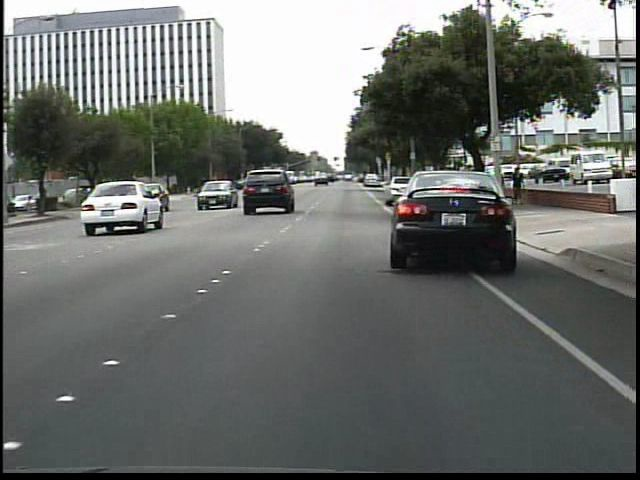person: (509, 163, 528, 204), (494, 166, 510, 205)
